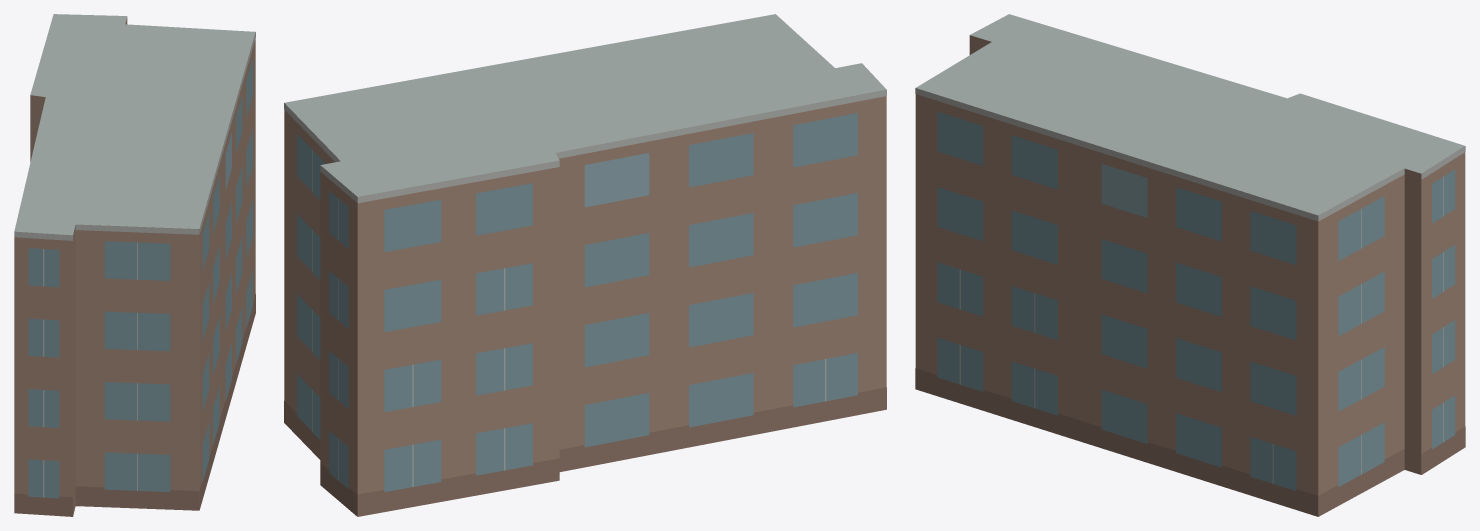
File: survey-upis-32988478.glb
3 views of the same model, side by side, from view 1: azimuth 30°, elevation 25°; view 2: azimuth 150°, elevation 25°; view 3: azimuth 270°, elevation 25° (orthographic). The views are drawn at different scales.
Parts seen in each view (by area): view 1: survey-upis-32988478.tmp; view 2: survey-upis-32988478.tmp; view 3: survey-upis-32988478.tmp.
Boxes of the visible parts, bbox=[...] form: survey-upis-32988478.tmp: bbox=[14, 14, 255, 516]; survey-upis-32988478.tmp: bbox=[284, 14, 886, 516]; survey-upis-32988478.tmp: bbox=[915, 14, 1465, 516].
Size of the model in its own units: 17.51 by 12.2 by 20.18.
